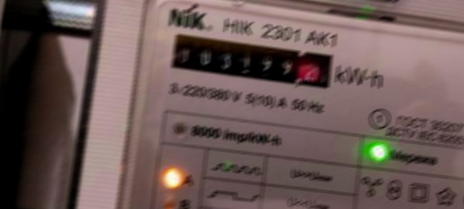0: (176, 42, 189, 61), (198, 44, 210, 63)
1: (240, 46, 250, 65)
3: (219, 48, 229, 68)
6: (302, 65, 312, 82)
9: (280, 55, 291, 74), (260, 51, 270, 69)
screen: (164, 26, 339, 93)
